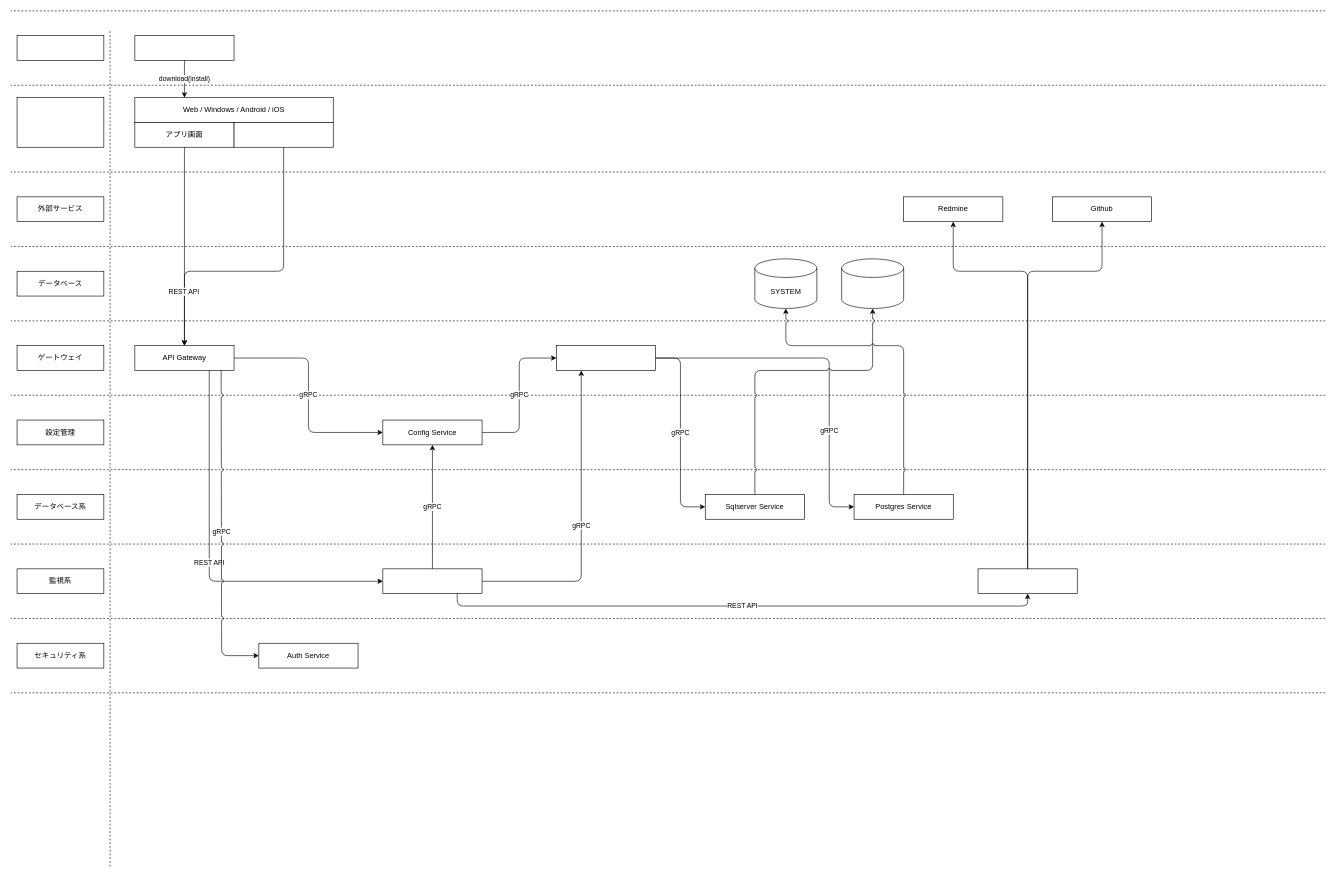
The diagram is 1337 pixels wide and 878 high, and some of its shapes have lost their labels. Each missing label, with the box of its shape:
Database Gateway: (556, 345, 656, 370)
FA: (841, 258, 904, 308)
GitLab: (134, 35, 234, 60)
Log Service: (382, 568, 482, 594)
Notice Service: (977, 568, 1077, 594)
アプリストア: (16, 35, 104, 60)
ユーザー: (16, 97, 104, 147)
設定画面: (233, 122, 333, 147)
